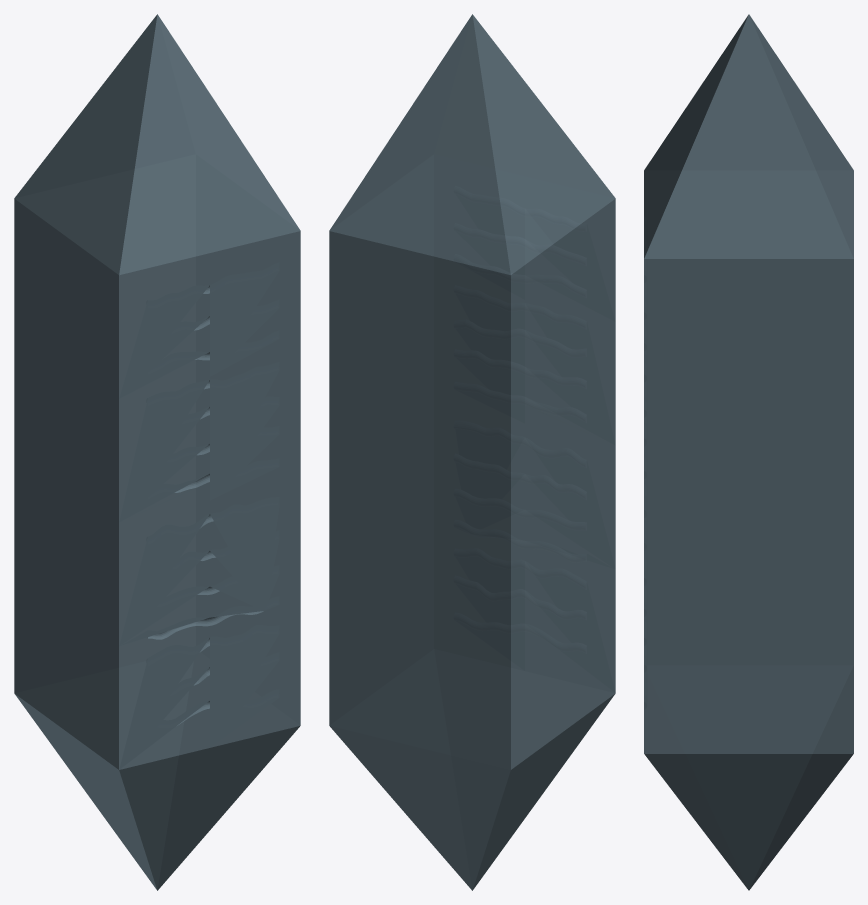
File: Artefact2.fbx
The picture shows the model from 3 angles, left to right: view 1: azimuth 30°, elevation 25°; view 2: azimuth 150°, elevation 25°; view 3: azimuth 270°, elevation 25°; orthographic projection.
Visible parts, largest first — view 1: pCube2; view 2: pCube2; view 3: pCube2.
Part boxes in pixels (bbox=[...]): pCube2: bbox=[14, 14, 300, 890]; pCube2: bbox=[329, 14, 615, 890]; pCube2: bbox=[644, 14, 853, 890].
Size of the model in its own units: 2.26 by 10.4 by 2.26.
